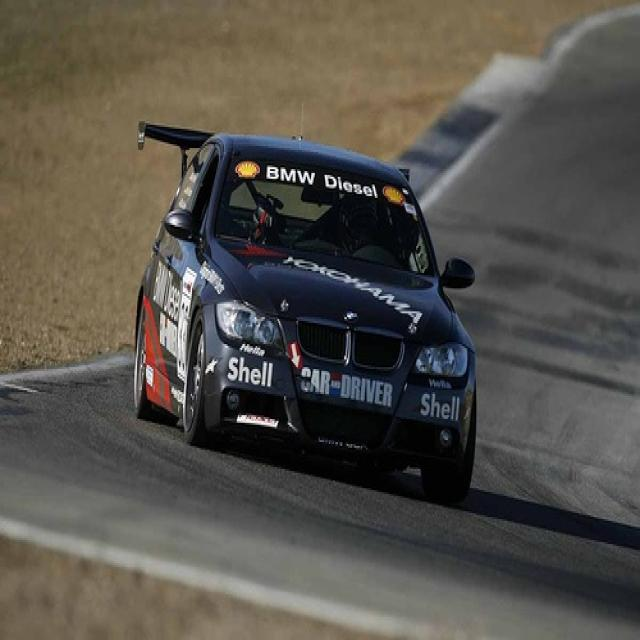car: (132, 115, 476, 496)
